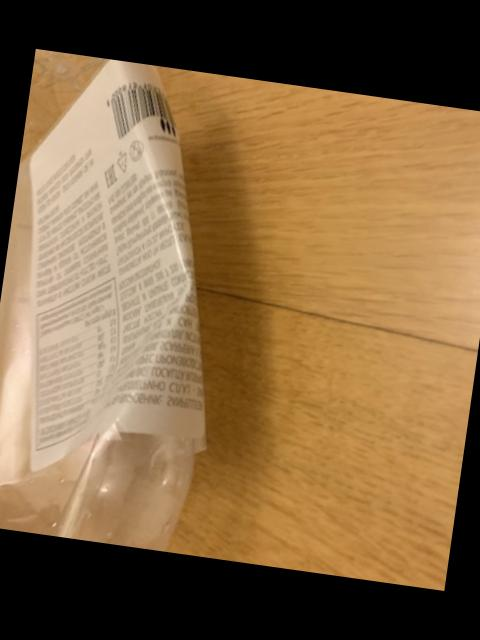plastic: (0, 49, 202, 551)
